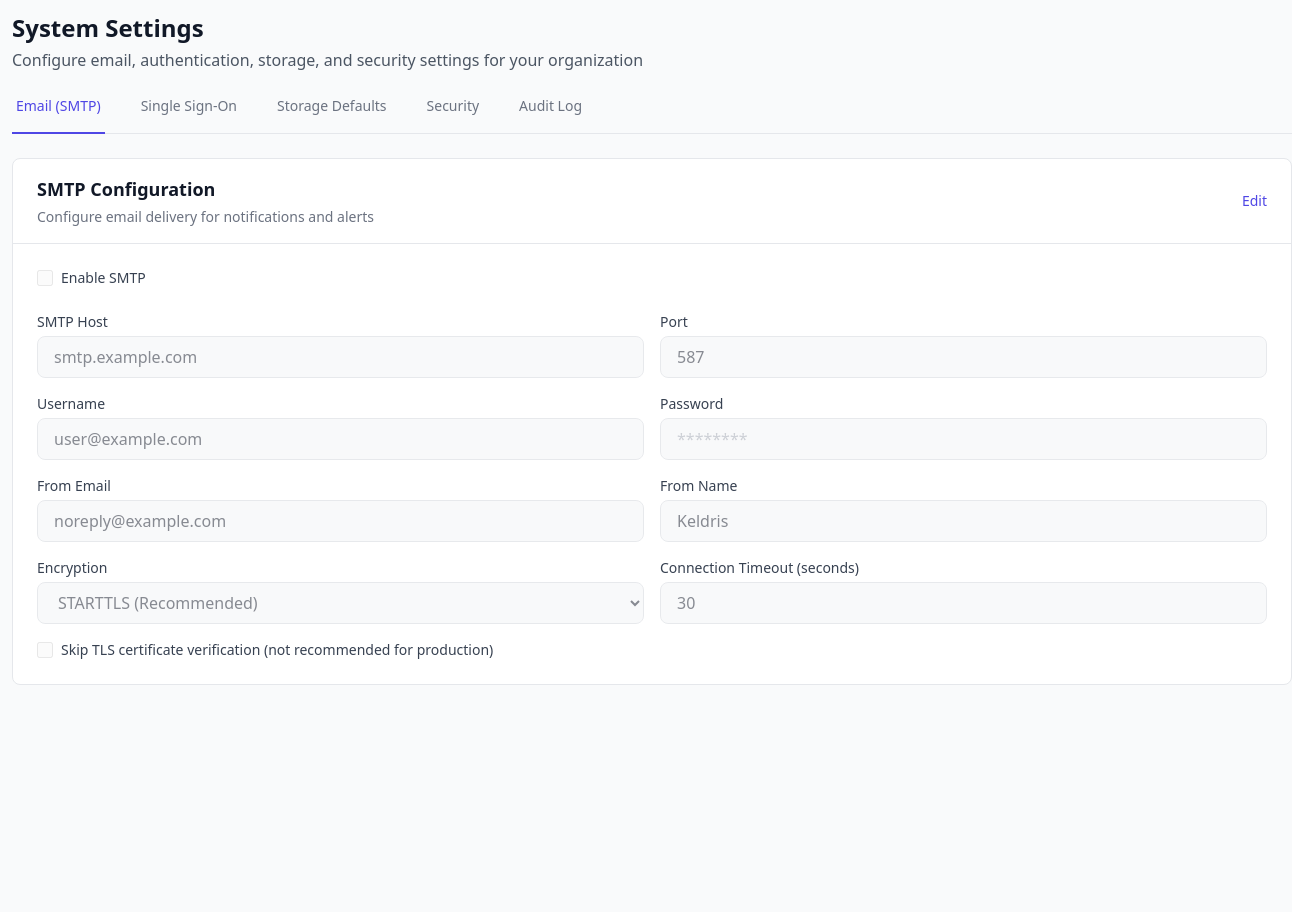
Test: SystemSettings page › tab rendering › switches to Security tab on click
This screenshot has width=1292, height=912.
Click the button "Security": (453, 115) [422,96,483,134]
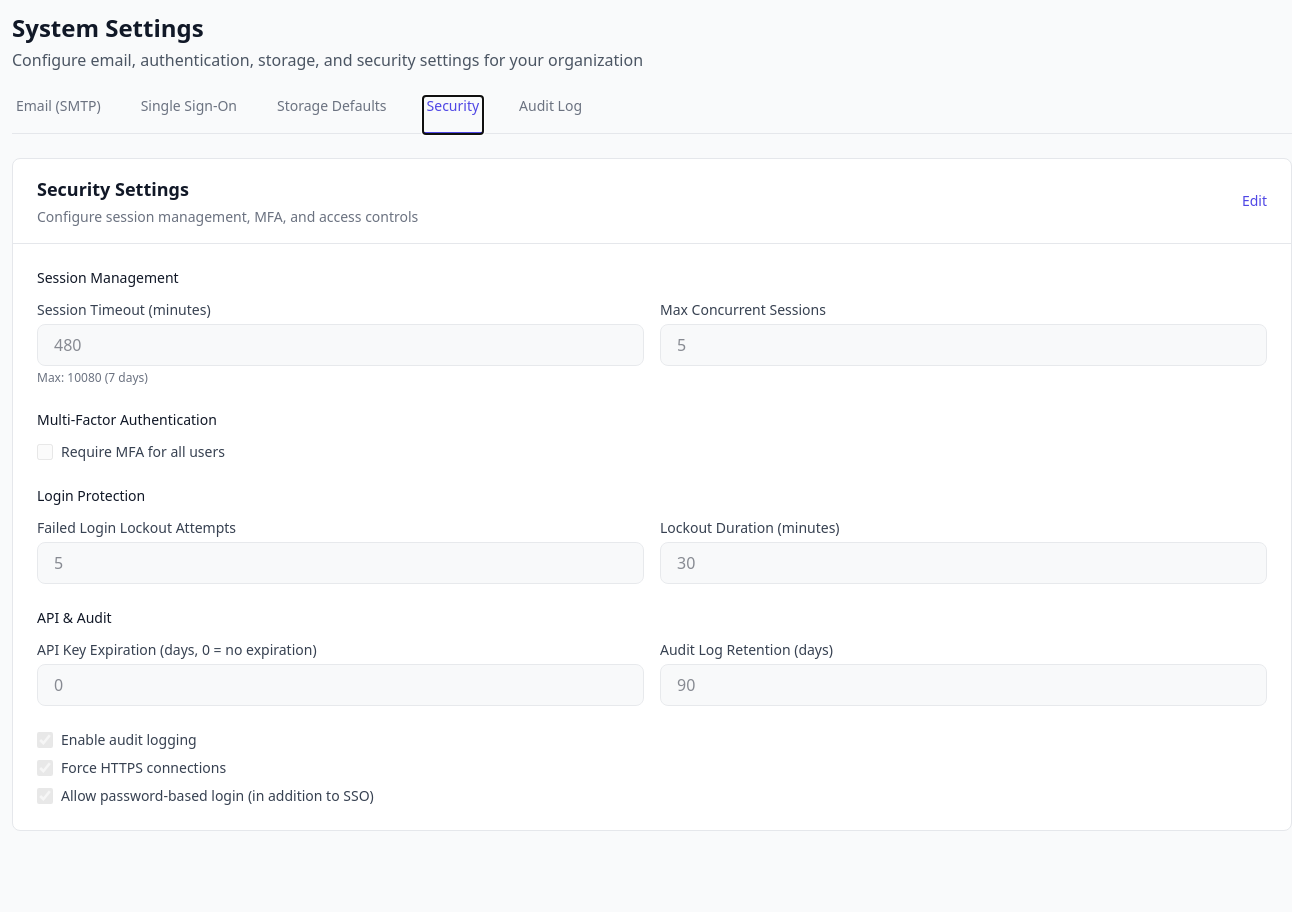
Expected: the heading "Security Settings" is shown, [37,177,189,201]
